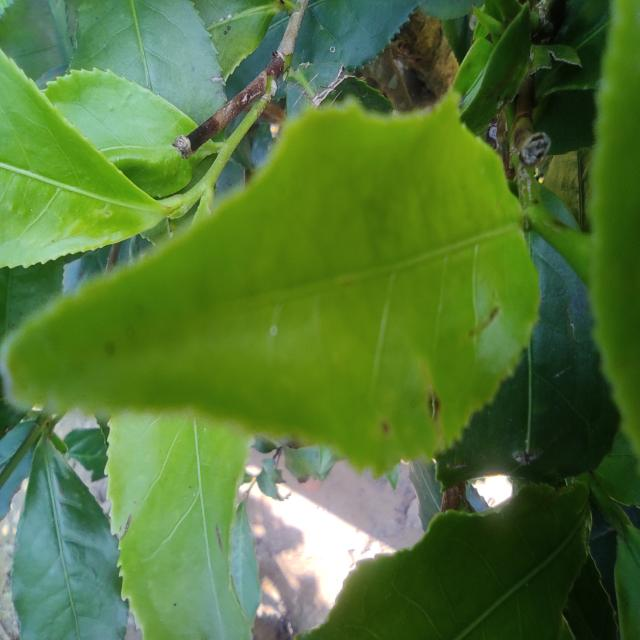Category C(4-7 days): (4, 76, 544, 533)
